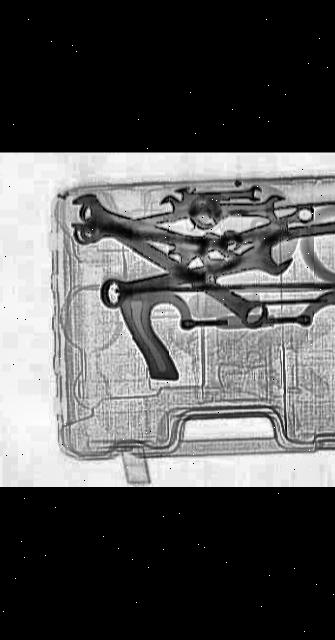Wrench: (58, 199, 280, 332), (81, 230, 300, 319), (50, 191, 240, 272), (158, 204, 321, 271), (195, 209, 335, 258), (158, 195, 287, 226), (174, 187, 263, 206)
